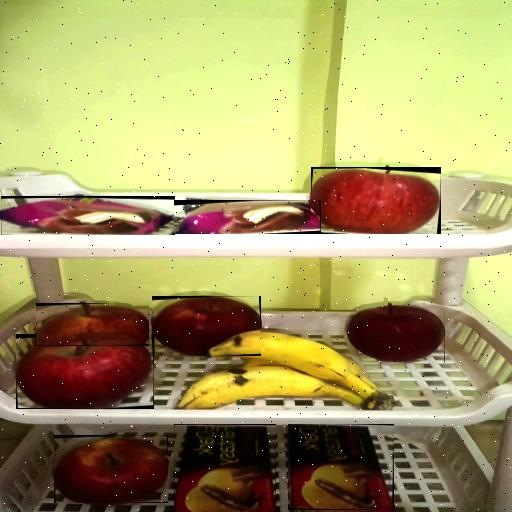Apple: (16, 334, 154, 409), (311, 167, 441, 234), (54, 435, 168, 503), (152, 296, 261, 356), (347, 303, 445, 363), (34, 303, 148, 346)
Choco Fills: (288, 424, 394, 510), (174, 424, 276, 510)
Choco Pie: (1, 196, 175, 235), (174, 200, 321, 234)
